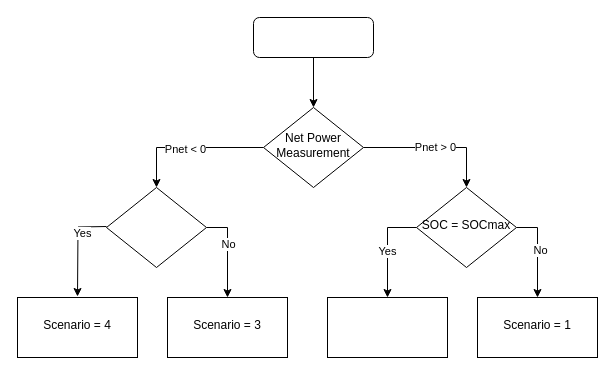
The diagram is 615 pixels wide and 375 high, and some of its shapes have lost their labels. The box of each missing label's shape, as (x1, y1, x2, y2) in pixels:
Energy Management System: (252, 16, 374, 58)
Scenario = 2: (326, 296, 448, 358)
SOC = SOCmin: (106, 186, 206, 268)
